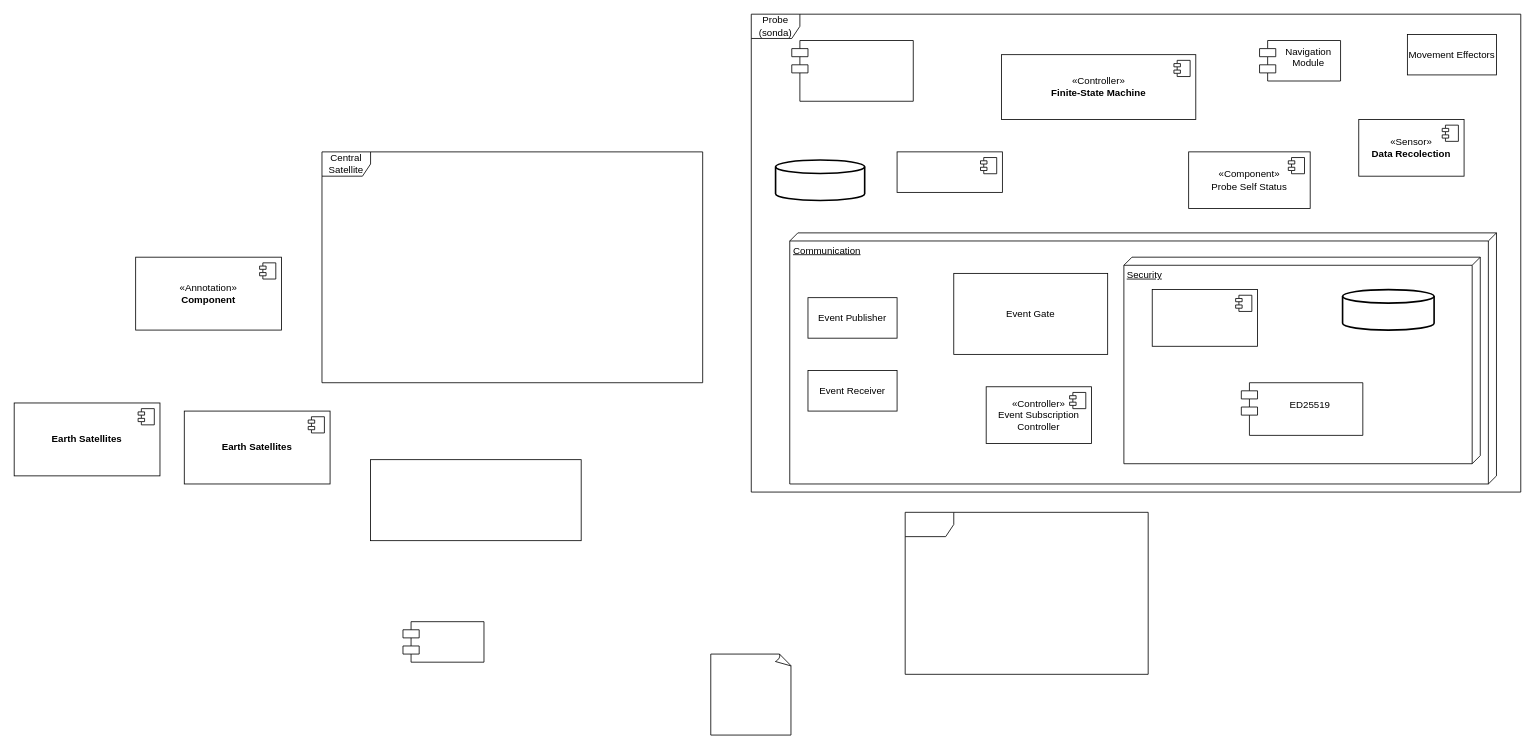
Image size: 1535x749. Some labels were removed from this diagram. Here are the shapes that lost their labels. From the top down, the centre of each, then its label:
(x=852, y=70): Position Estimator Module (Kalman Filter Algorithm)
(x=819, y=180): FSM Rules
(x=949, y=171): «Controller» Rules Updater
(x=1204, y=317): «Component» Authentication Gate
(x=1388, y=309): Public - Private Key
(x=475, y=500): API Gateway
(x=1026, y=593): Monitoring
(x=443, y=641): Module
(x=751, y=694): Controlador que permite a la sonda cierta autonomía
